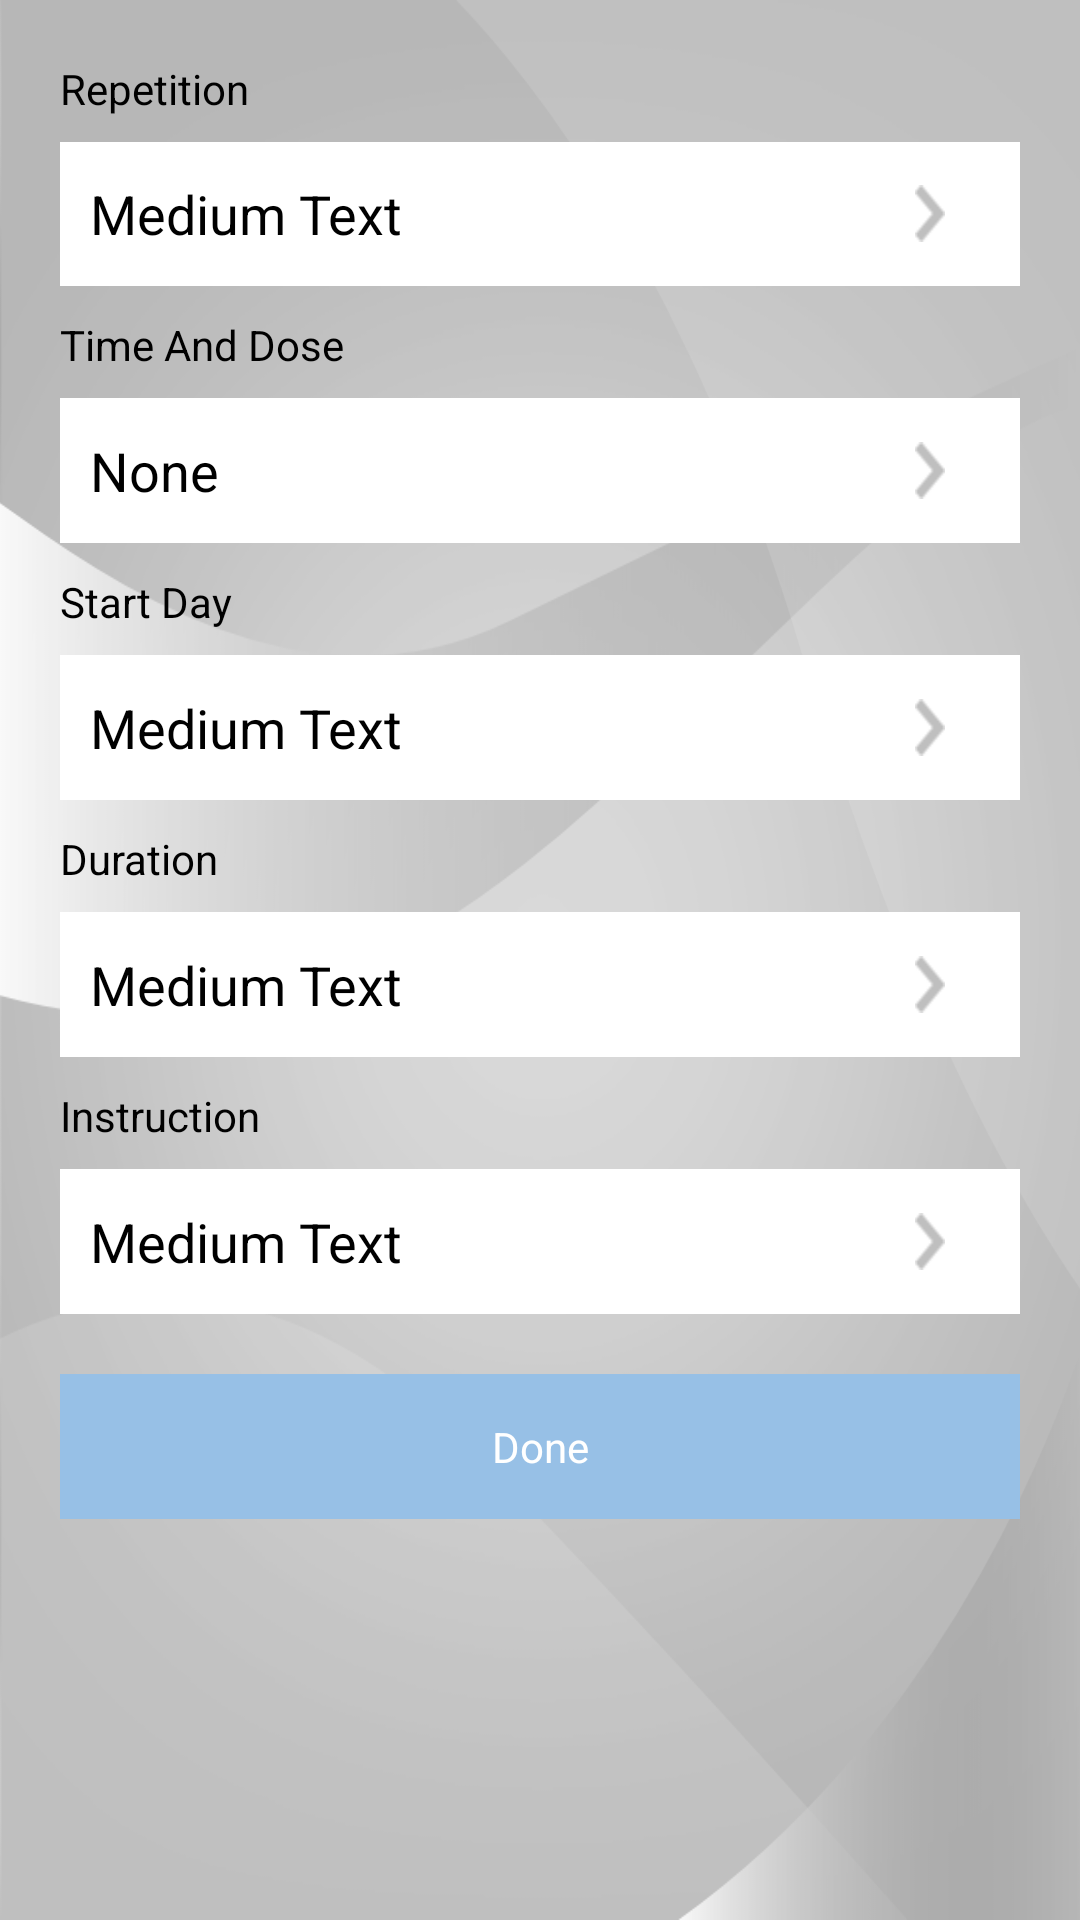

Icon bounding boxes for this 1080 × 1920 phone screenshot, format box(x1, y1, x2, y2):
arrow right: box(915, 185, 945, 242), box(915, 442, 945, 499), box(915, 699, 945, 756), box(915, 956, 945, 1013), box(915, 1213, 945, 1270)
